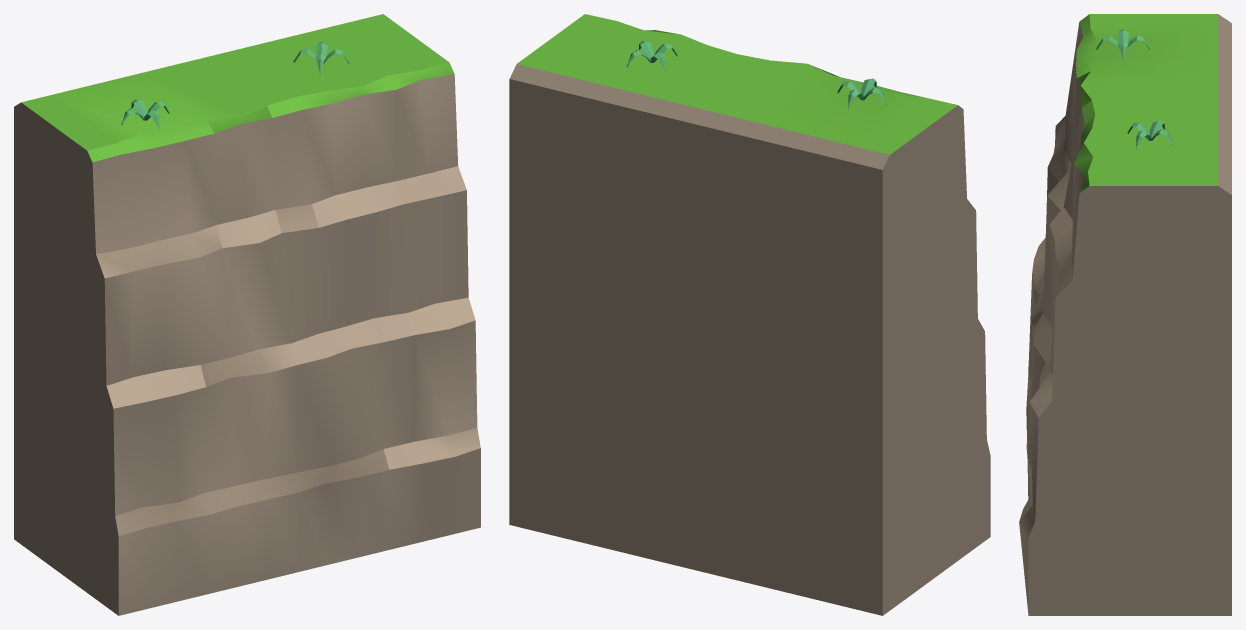
The model's file is cliff-b.glb.
3 renders of one model, left to right at view 1: azimuth 30°, elevation 25°; view 2: azimuth 150°, elevation 25°; view 3: azimuth 270°, elevation 25°, orthographic. The views are drawn at different scales.
Parts seen in each view (by area): view 1: cliff-b; view 2: cliff-b; view 3: cliff-b.
Boxes of the visible parts, x1,y1,x2,y2 form: cliff-b: (14, 14, 480, 615); cliff-b: (509, 14, 990, 615); cliff-b: (1019, 14, 1231, 615).
Bounding box in the file's own units: 12 × 14.46 × 6.28.
